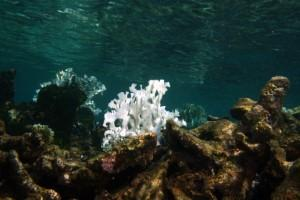bleached_corals: (96, 77, 188, 149)
